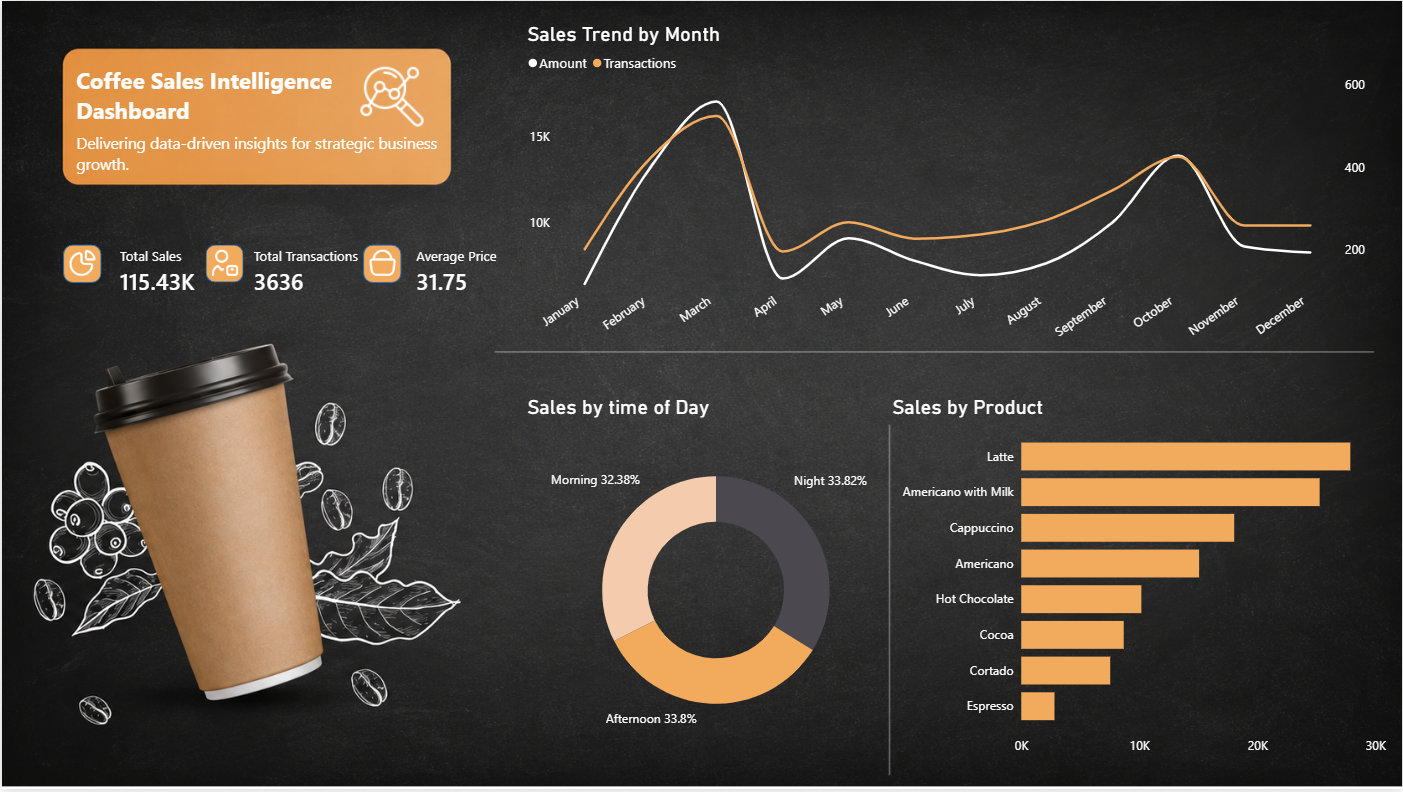

This screenshot's page, from the dashboard's own definition file:
{"tool":"powerbi","page":{"name":"Sales Dashboard","canvas":[1672,941],"ordinal":0},"visuals":[{"type":"textbox","box":[83.1,71.2,503.4,161],"z":0},{"type":"textbox","box":[83.1,152.5,474.6,72.9],"z":1000},{"type":"image","box":[420.3,71.2,89.8,89.8],"z":2000},{"type":"cardVisual","fields":{"Data":["Sum(Coffee Sales Data.money)"]},"box":[111.4,261.4,200,122.7],"z":3000},{"type":"shape","box":[72.7,290.9,45.4,45.4],"z":3000,"group":"g3"},{"type":"cardVisual","fields":{"Data":["CountNonNull(Coffee Sales Data.coffee_name)"]},"box":[271.5,261.5,200,122.3],"z":4000},{"type":"group","id":"g1","title":"Group 2","box":[243.2,290.9,45.5,45.5],"z":5000},{"type":"image","box":[80,297.1,31.3,31.3],"z":5000,"group":"g3"},{"type":"shape","box":[243.2,290.9,45,45],"z":6000,"group":"g1"},{"type":"group","id":"g2","title":"Group 2","box":[431.8,290.9,45.5,45.5],"z":6000},{"type":"shape","box":[431.8,290.9,45.5,45.5],"z":6000,"group":"g2"},{"type":"cardVisual","fields":{"Data":["Avg(Coffee Sales Data.money)"]},"box":[465.9,259.1,200,125],"z":7000},{"type":"image","box":[251,297.1,31,31],"z":7000,"group":"g1"},{"type":"image","box":[439.6,297.2,31.3,31.3],"z":7000,"group":"g2"},{"type":"lineChart","title":"Sales Trend by Month","fields":{"Category":["Coffee Sales Data.datetime.Variation.Date Hierarchy.Month"],"Y":["Sum(Coffee Sales Data.money)"],"Y2":["CountNonNull(Coffee Sales Data.coffee_name)"]},"box":[622.9,25,1010.4,400],"z":8000},{"type":"group","id":"g3","title":"Group 1","box":[72.7,290.9,45.4,45.4],"z":9000},{"type":"donutChart","title":"Sales by time of Day","fields":{"Category":["Coffee Sales Data.Time_of_Day"],"Y":["Sum(Coffee Sales Data.money)"]},"box":[622.9,470.8,460.4,439.6],"z":10000},{"type":"clusteredBarChart","title":"Sales by Product","fields":{"Category":["Coffee Sales Data.coffee_name"],"Y":["Sum(Coffee Sales Data.money)"]},"box":[1058.3,470.8,600,439.6],"z":11000},{"type":"shape","box":[587.5,383.3,1050,70.8],"z":12000},{"type":"shape","box":[1014.6,506.2,89.6,418.8],"z":13000},{"type":"textbox","box":[0,875,148.1,65.4],"z":14000}]}

Visuals, with their boxes in screenshot pixels (x1, y1, x2, y2), scaled from the page's 1672x941 canvas onto the 1403x792 screenshot:
textbox: {"left": 70, "top": 60, "right": 492, "bottom": 195}
textbox: {"left": 70, "top": 128, "right": 468, "bottom": 190}
image: {"left": 353, "top": 60, "right": 428, "bottom": 136}
cardVisual - Sum(Coffee Sales Data.money): {"left": 93, "top": 220, "right": 261, "bottom": 323}
shape: {"left": 61, "top": 245, "right": 99, "bottom": 283}
cardVisual - CountNonNull(Coffee Sales Data.coffee_name): {"left": 228, "top": 220, "right": 396, "bottom": 323}
"Group 2" group: {"left": 204, "top": 245, "right": 242, "bottom": 283}
image: {"left": 67, "top": 250, "right": 93, "bottom": 276}
shape: {"left": 204, "top": 245, "right": 242, "bottom": 283}
"Group 2" group: {"left": 362, "top": 245, "right": 401, "bottom": 283}
shape: {"left": 362, "top": 245, "right": 401, "bottom": 283}
cardVisual - Avg(Coffee Sales Data.money): {"left": 391, "top": 218, "right": 559, "bottom": 323}
image: {"left": 211, "top": 250, "right": 237, "bottom": 276}
image: {"left": 369, "top": 250, "right": 395, "bottom": 276}
"Sales Trend by Month" lineChart: {"left": 523, "top": 21, "right": 1371, "bottom": 358}
"Group 1" group: {"left": 61, "top": 245, "right": 99, "bottom": 283}
"Sales by time of Day" donutChart: {"left": 523, "top": 396, "right": 909, "bottom": 766}
"Sales by Product" clusteredBarChart: {"left": 888, "top": 396, "right": 1392, "bottom": 766}
shape: {"left": 493, "top": 323, "right": 1374, "bottom": 382}
shape: {"left": 851, "top": 426, "right": 927, "bottom": 779}
textbox: {"left": 0, "top": 736, "right": 124, "bottom": 791}
